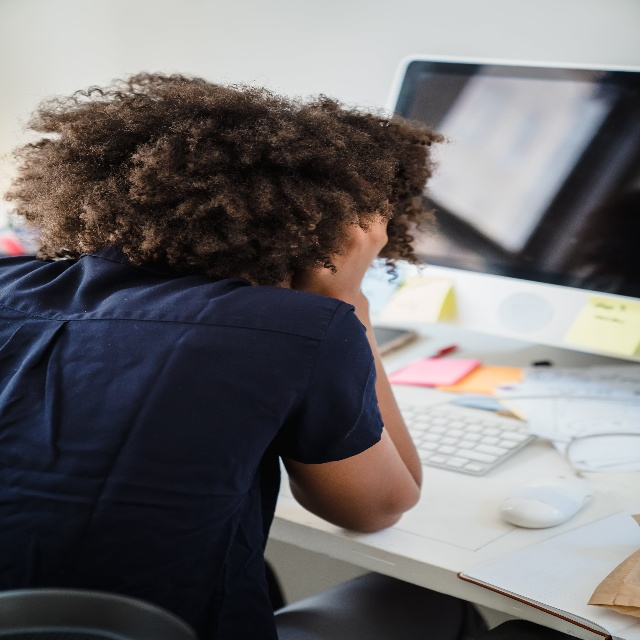Sin_guantes: (301, 191, 388, 295)
